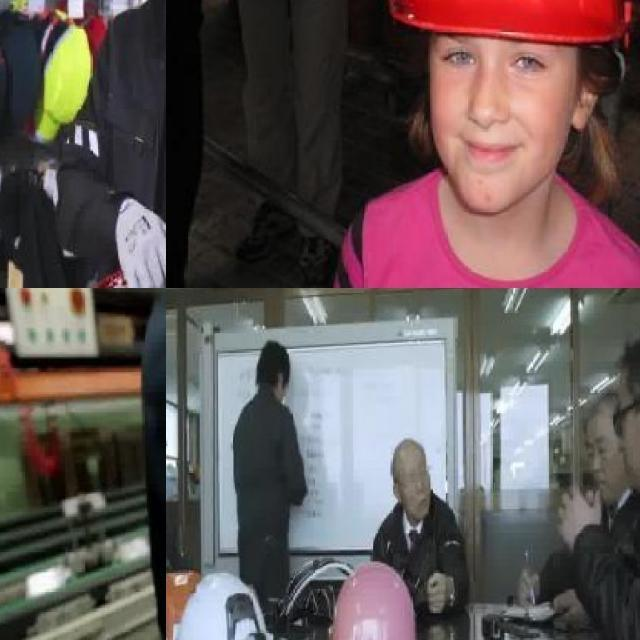apron: (115, 195, 166, 288)
